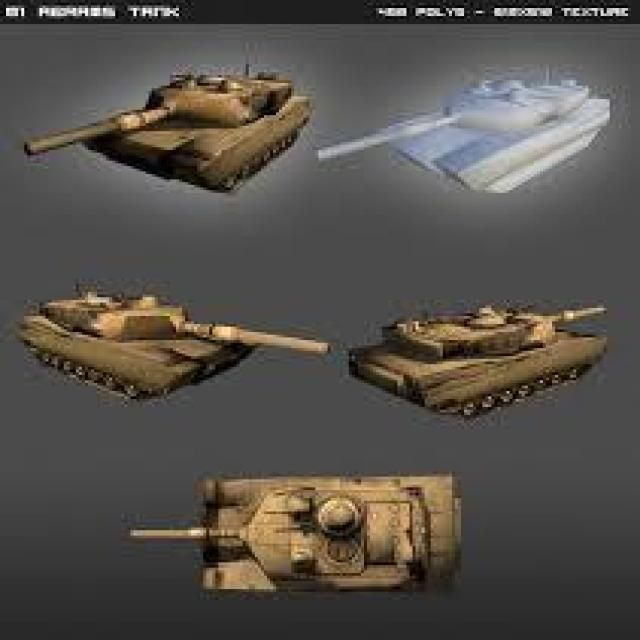Tanks: (355, 250, 619, 436), (198, 451, 472, 617), (12, 258, 255, 408), (99, 60, 314, 194), (387, 74, 611, 200)
